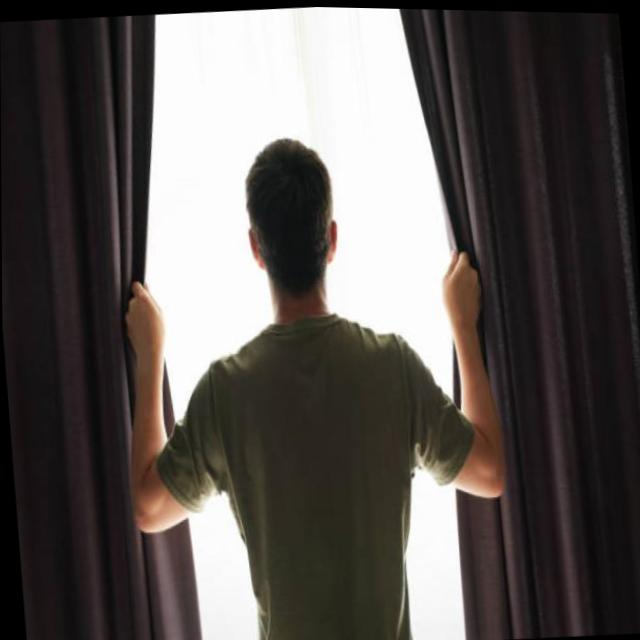no helmet: (215, 115, 359, 332)
